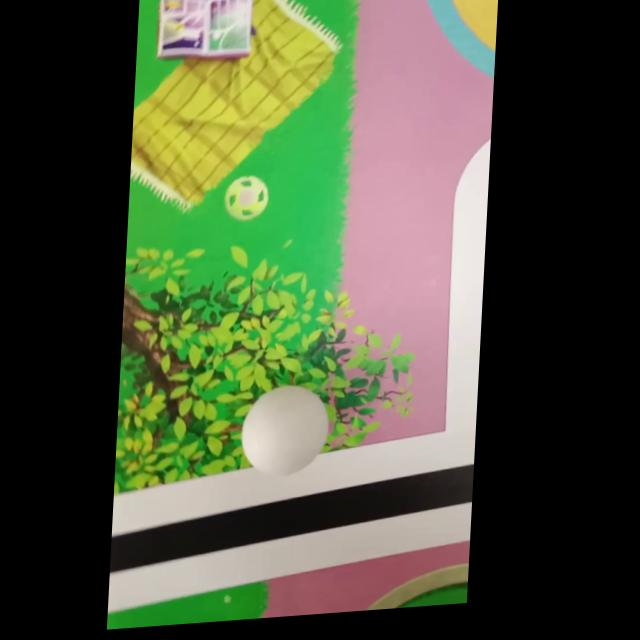white ball: (238, 381, 331, 479)
